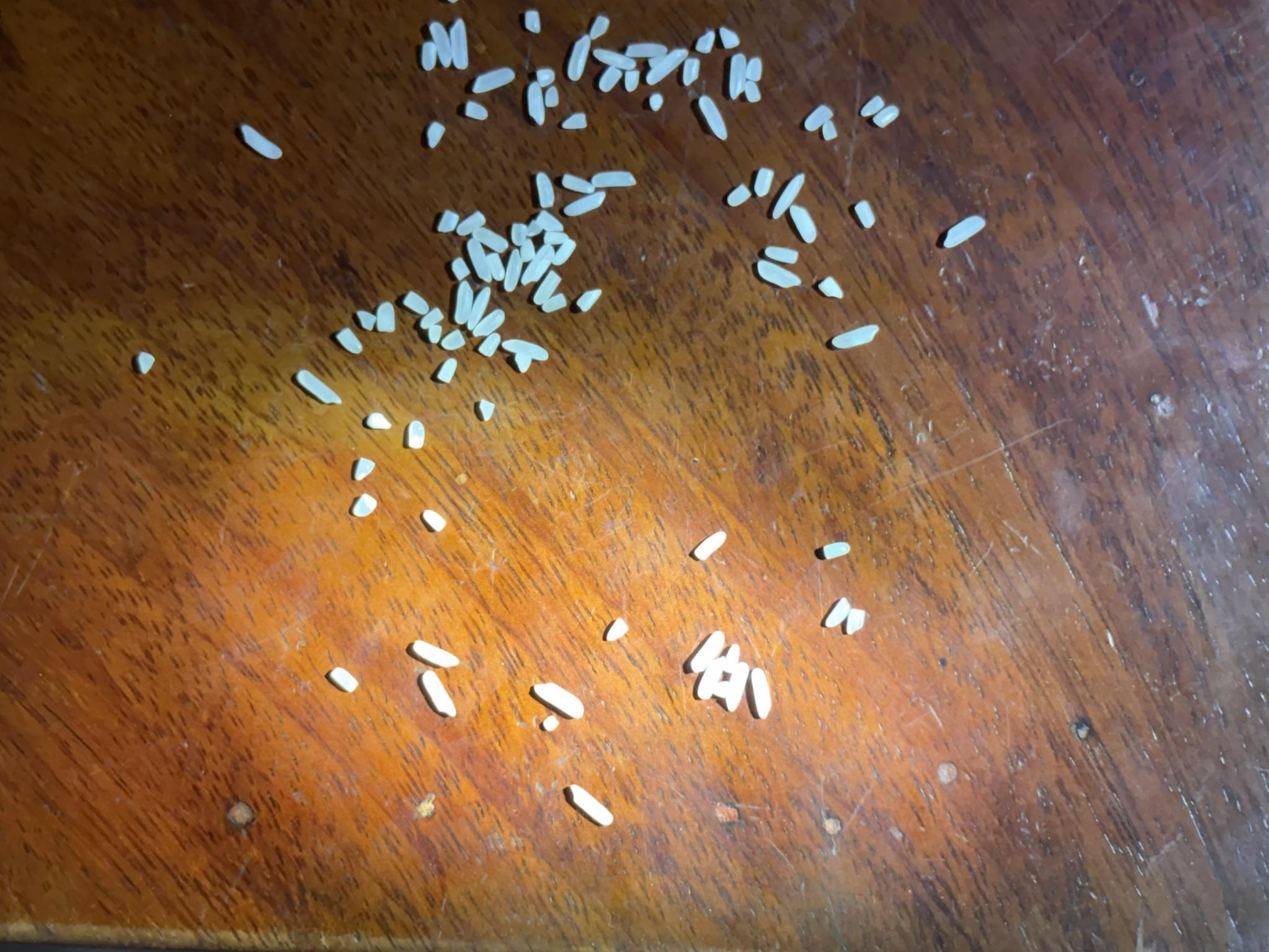Rice-th-y-nh: (533, 675, 585, 725), (568, 780, 614, 830), (418, 667, 459, 719), (412, 633, 459, 676), (942, 209, 986, 254), (769, 171, 807, 222), (646, 43, 688, 89), (831, 318, 879, 358), (744, 666, 779, 720), (688, 628, 727, 676), (695, 93, 732, 143), (756, 254, 801, 295), (519, 240, 557, 288), (442, 17, 476, 69), (471, 62, 516, 101), (721, 661, 754, 713), (296, 369, 342, 405), (503, 330, 549, 366), (563, 185, 607, 222), (563, 33, 596, 82), (695, 653, 728, 702), (239, 123, 282, 160), (425, 20, 458, 68), (593, 41, 637, 77), (787, 201, 821, 246), (465, 237, 496, 284), (722, 52, 751, 100), (591, 164, 637, 194), (449, 280, 479, 325), (625, 34, 668, 65), (693, 526, 727, 565), (464, 286, 494, 330), (499, 248, 528, 293), (521, 82, 550, 126), (531, 269, 563, 307), (472, 224, 509, 256), (471, 308, 506, 339), (531, 171, 559, 209), (764, 240, 799, 269), (824, 596, 852, 630), (560, 171, 596, 197), (803, 103, 833, 134), (574, 284, 604, 315), (372, 300, 399, 334), (328, 665, 360, 693), (871, 102, 900, 131), (456, 210, 486, 238), (852, 199, 879, 230), (482, 250, 508, 282), (751, 165, 776, 198), (822, 537, 851, 565), (351, 491, 379, 520), (843, 606, 869, 637), (720, 642, 743, 677), (725, 182, 753, 210), (551, 238, 577, 268), (534, 208, 564, 234), (404, 419, 429, 450), (604, 616, 630, 645), (679, 56, 703, 87), (336, 327, 363, 354), (402, 290, 430, 316), (818, 275, 846, 301), (598, 65, 623, 94), (417, 40, 440, 71), (440, 328, 467, 354), (436, 356, 460, 385), (541, 291, 569, 315), (561, 110, 589, 134), (419, 306, 445, 331), (860, 94, 886, 119), (477, 332, 502, 358), (463, 98, 489, 123), (717, 24, 741, 51), (353, 456, 377, 483), (421, 508, 447, 532), (425, 120, 446, 149), (437, 209, 461, 234), (694, 29, 717, 55), (542, 228, 570, 249), (589, 14, 610, 42), (450, 256, 472, 282), (517, 238, 539, 263), (621, 68, 643, 93), (534, 65, 556, 90), (522, 9, 544, 34), (742, 78, 763, 104), (744, 57, 765, 83), (508, 221, 529, 247), (355, 308, 377, 332), (542, 84, 562, 110), (365, 412, 392, 431), (512, 351, 534, 374), (134, 351, 156, 374), (819, 118, 840, 142), (478, 398, 497, 422), (540, 713, 561, 734), (426, 323, 444, 345), (525, 218, 544, 238), (647, 91, 665, 112)
